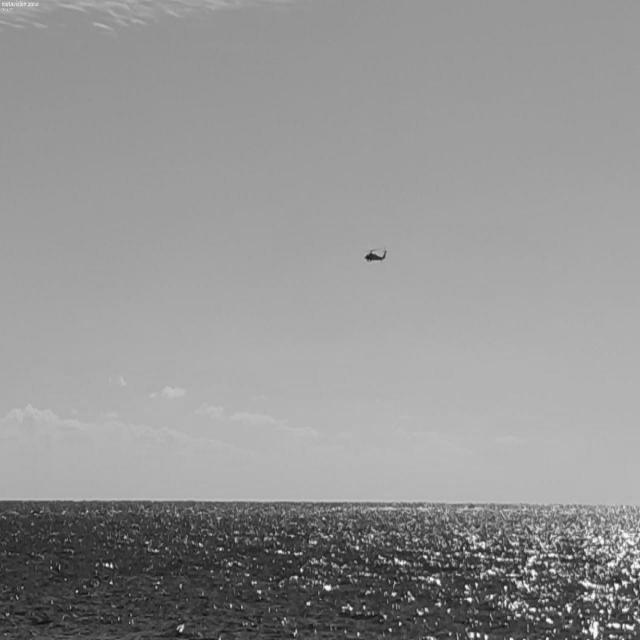helikopter: (342, 226, 413, 298)
